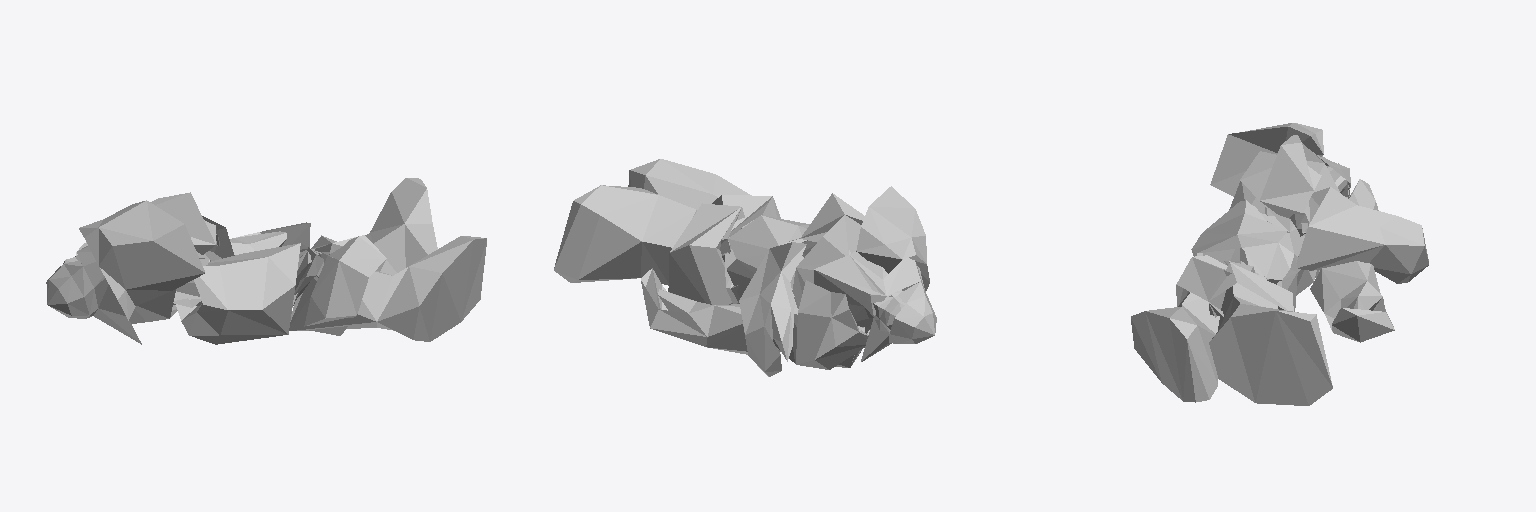
File: darkirondwarfcorpse03.obj
3 renders of one model, left to right at view 1: azimuth 30°, elevation 25°; view 2: azimuth 150°, elevation 25°; view 3: azimuth 270°, elevation 25°, orthographic.
Visible parts, largest first — view 1: object 1; view 2: object 1; view 3: object 1.
Boxes of the visible parts, x1=… form: object 1: x1=46, y1=178, x2=486, y2=344; object 1: x1=554, y1=159, x2=936, y2=376; object 1: x1=1131, y1=123, x2=1428, y2=405.
Size of the model in its own units: 1.33 by 0.5336 by 0.9139.